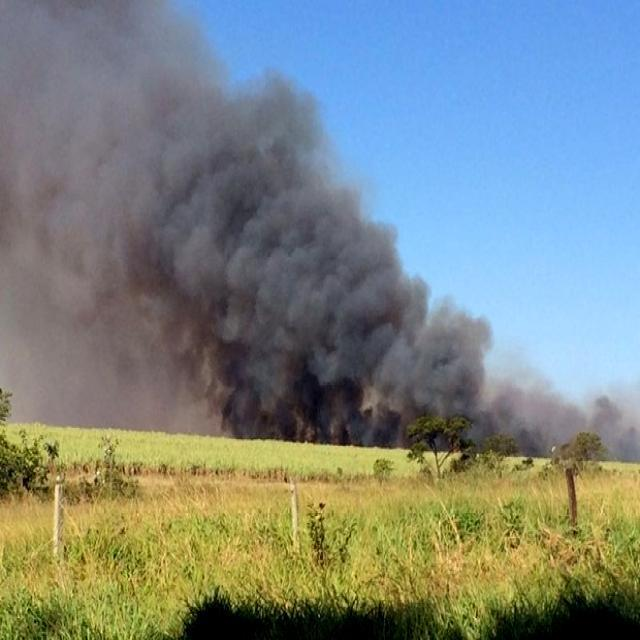Smoke: (0, 0, 506, 423)
